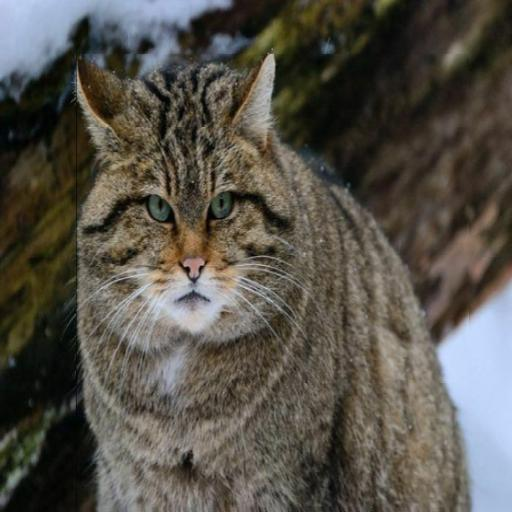cat: (77, 54, 469, 509)
